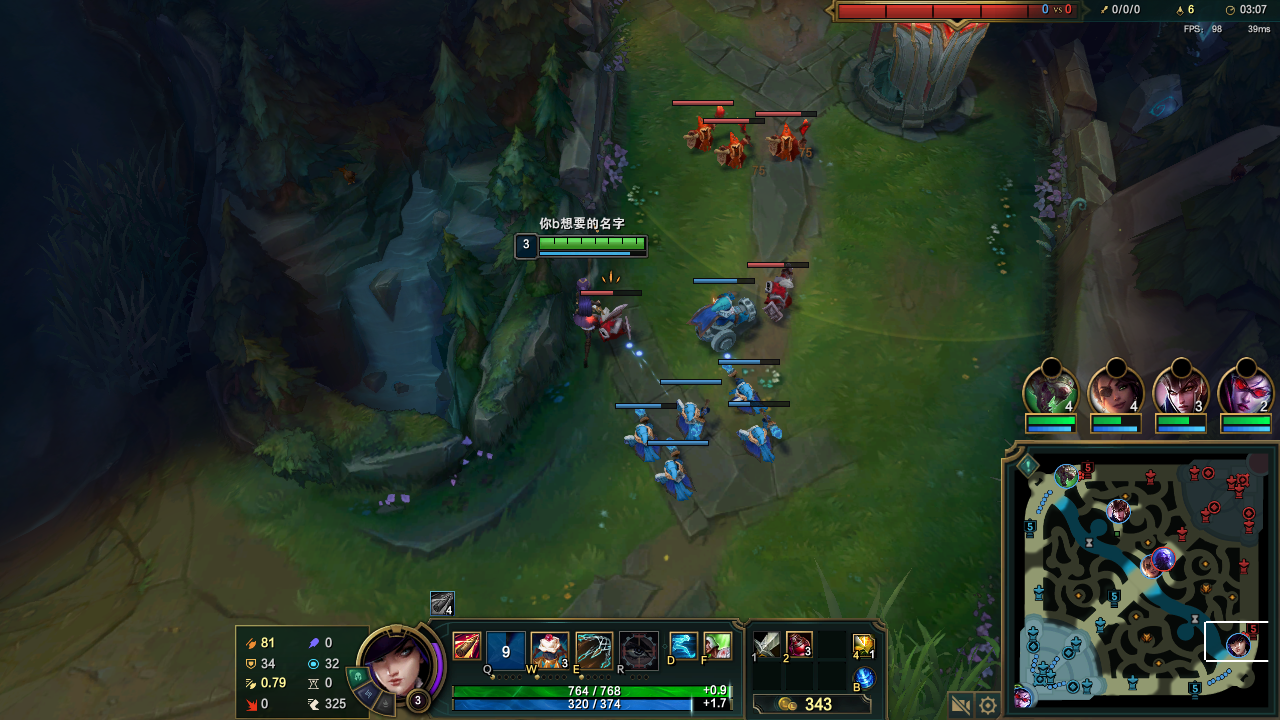DFFYT: (831, 1, 997, 129)
DFXB: (770, 120, 808, 163), (599, 308, 633, 342), (762, 280, 795, 314), (691, 118, 717, 151), (721, 135, 744, 165)
WFXB: (698, 295, 758, 350), (737, 421, 788, 462), (616, 418, 659, 459), (655, 461, 698, 501), (675, 400, 710, 441), (729, 383, 766, 414)
Yita: (1187, 674, 1201, 699)
